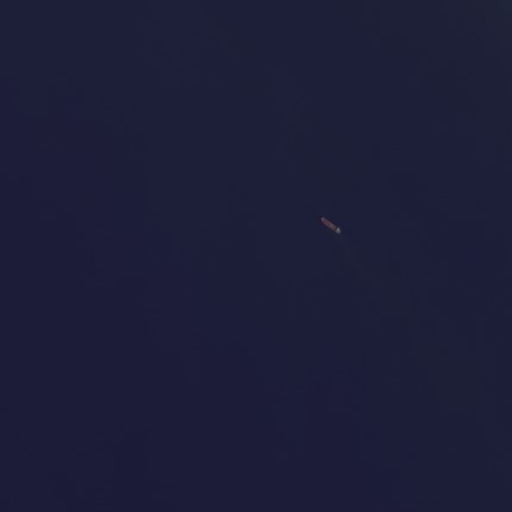ship: (317, 213, 344, 239)
